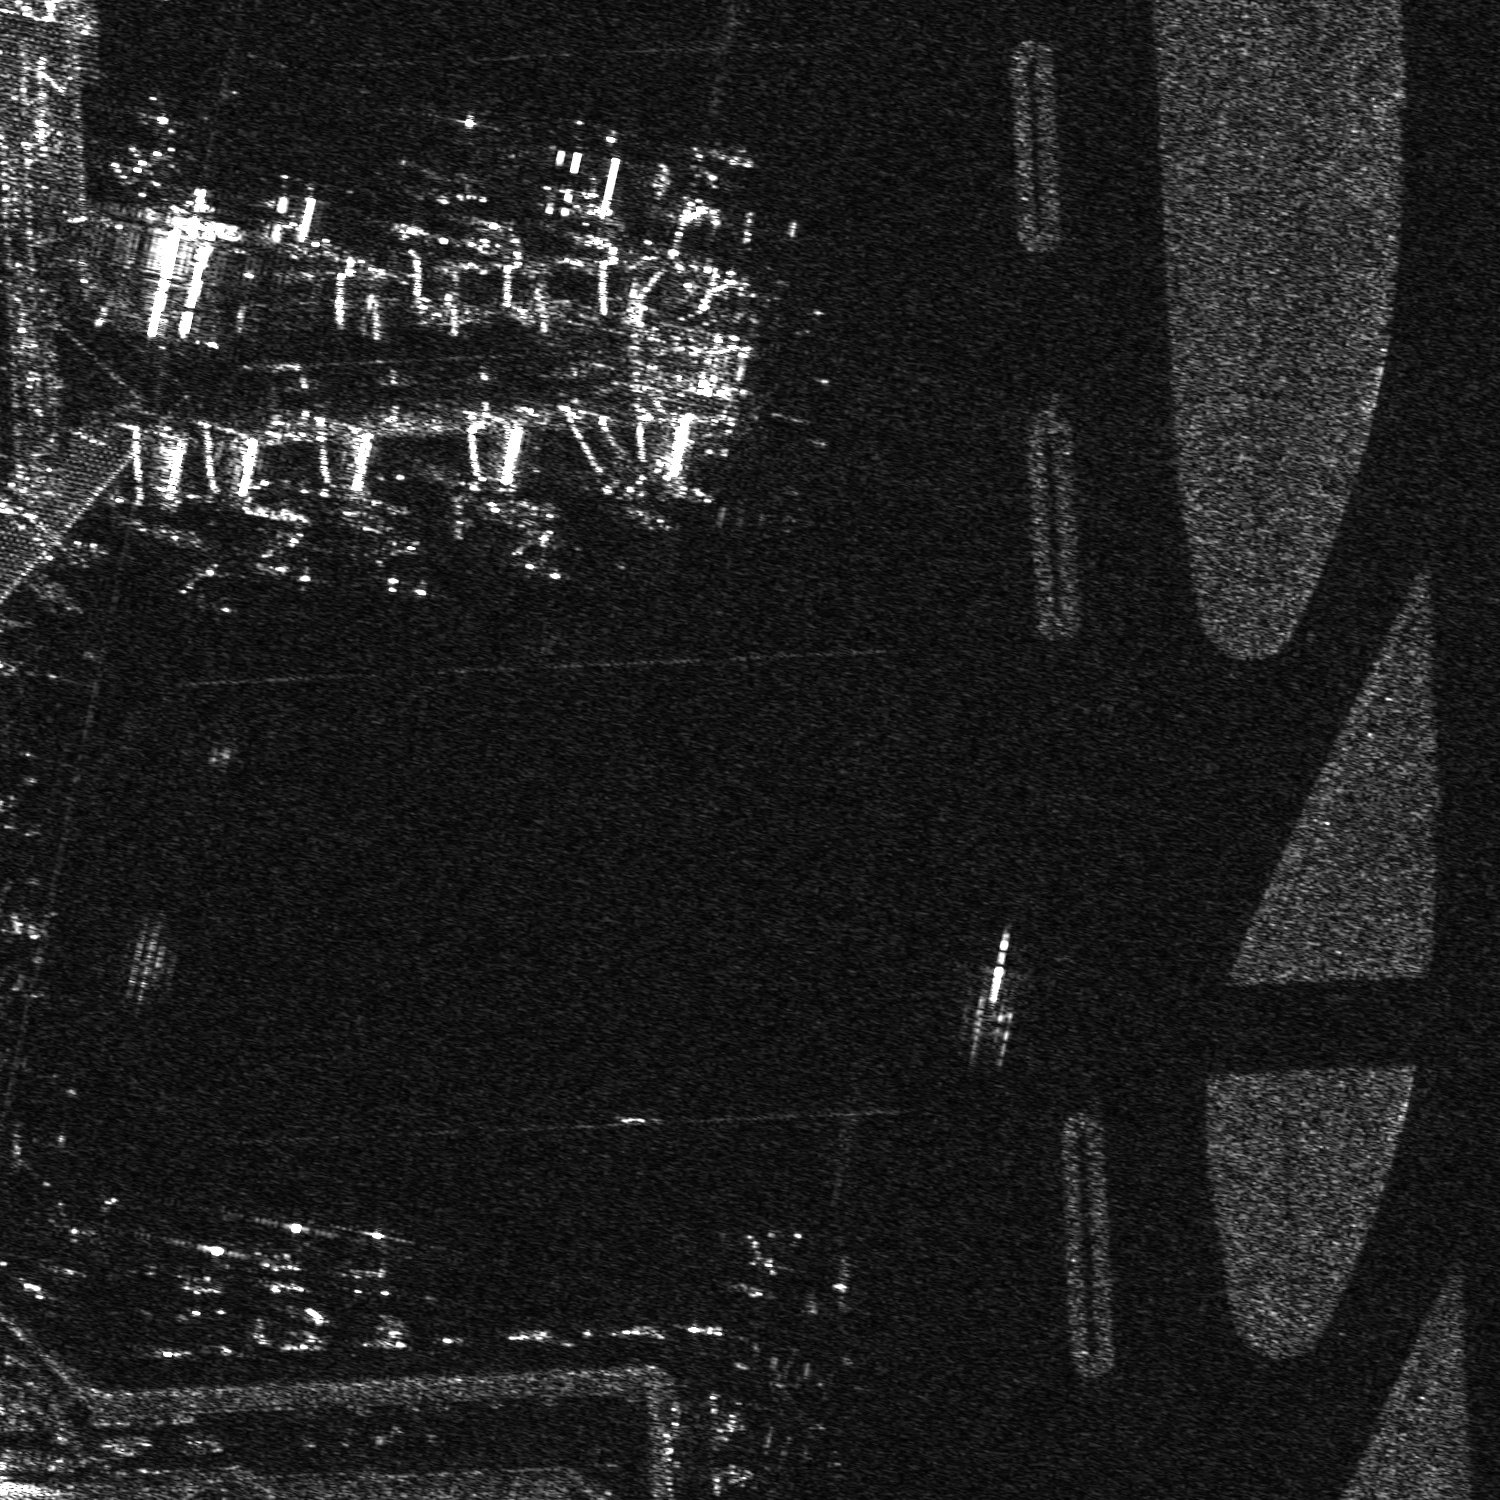A220: (762, 1341, 843, 1429), (238, 1214, 313, 1304), (257, 512, 331, 584)
A320/321: (720, 1217, 810, 1283)
Boeing737: (150, 1234, 232, 1306), (179, 541, 245, 618)
Boeing787: (365, 505, 429, 595)
other: (330, 1225, 401, 1302), (510, 507, 581, 581)
